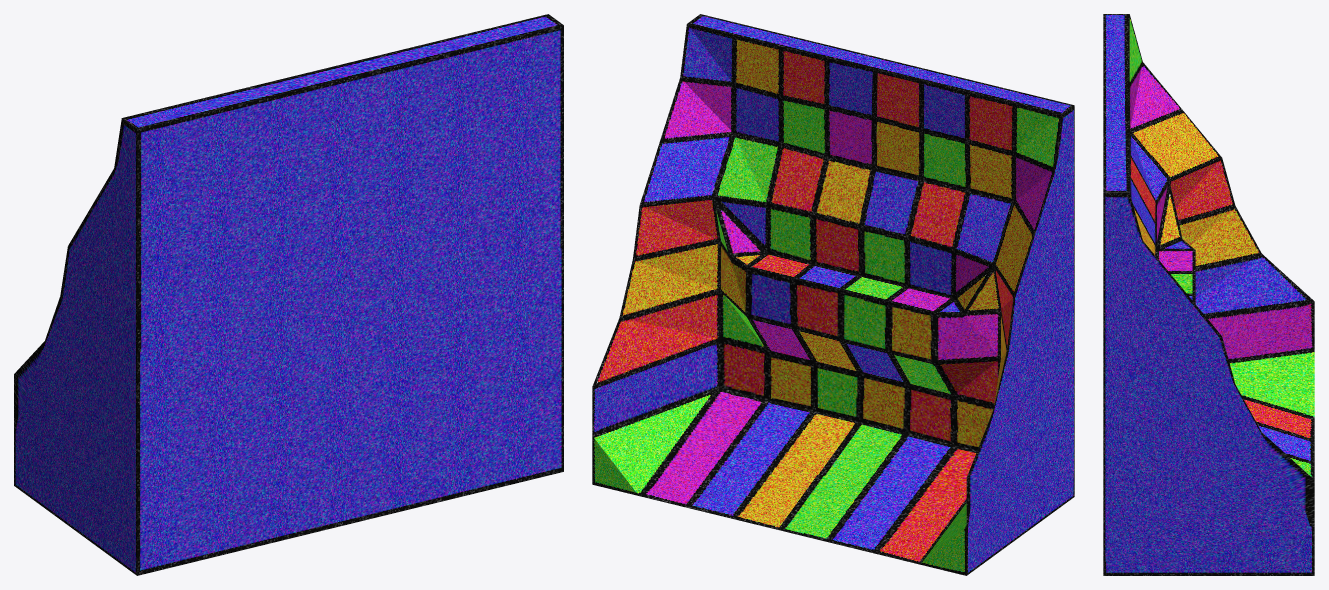
File: cd3-ground.dae
The picture shows the model from 3 angles, left to right: view 1: azimuth 30°, elevation 25°; view 2: azimuth 150°, elevation 25°; view 3: azimuth 270°, elevation 25°; orthographic projection. The views are drawn at different scales.
Parts seen in each view (by area): view 1: ground_0; view 2: ground_0; view 3: ground_0.
Boxes of the visible parts, <box> form: ground_0: <box>14,14,563,575</box>; ground_0: <box>592,14,1074,575</box>; ground_0: <box>1103,14,1314,575</box>.
Size of the model in its own units: 8 by 4 by 8.
Materials: 1 (1 with a texture image).
